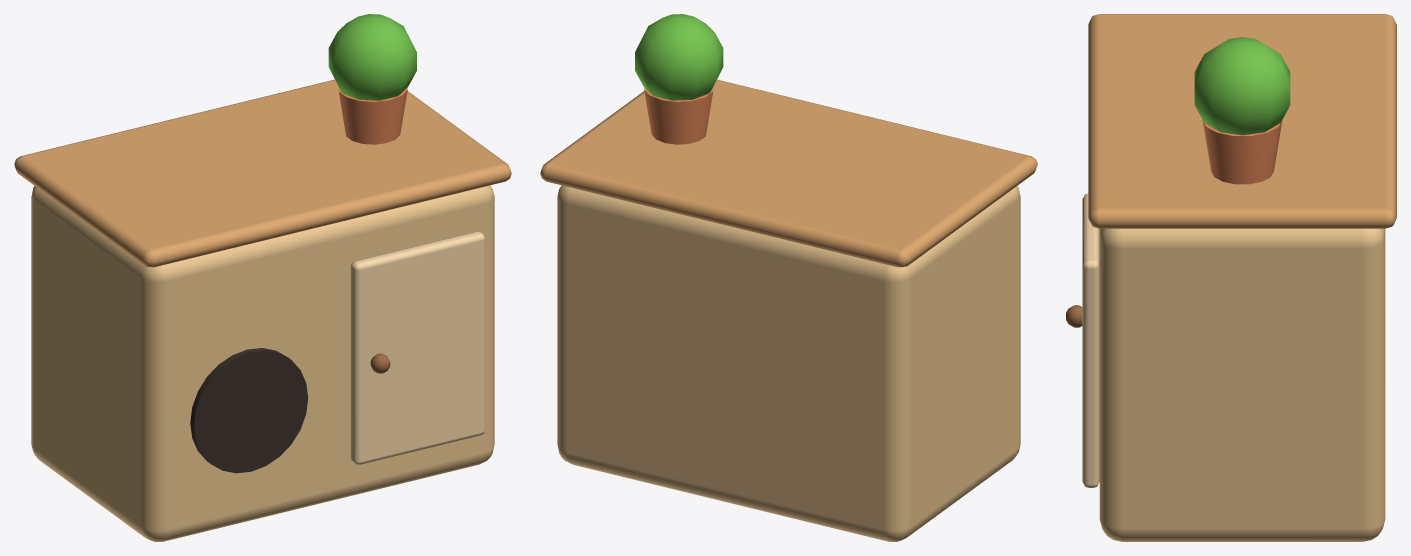
The model's file is litter-cabinet.glb.
3 renders of one model, left to right at view 1: azimuth 30°, elevation 25°; view 2: azimuth 150°, elevation 25°; view 3: azimuth 270°, elevation 25°, orthographic. The views are drawn at different scales.
Size of the model in its own units: 0.84 by 0.91 by 0.5785.
